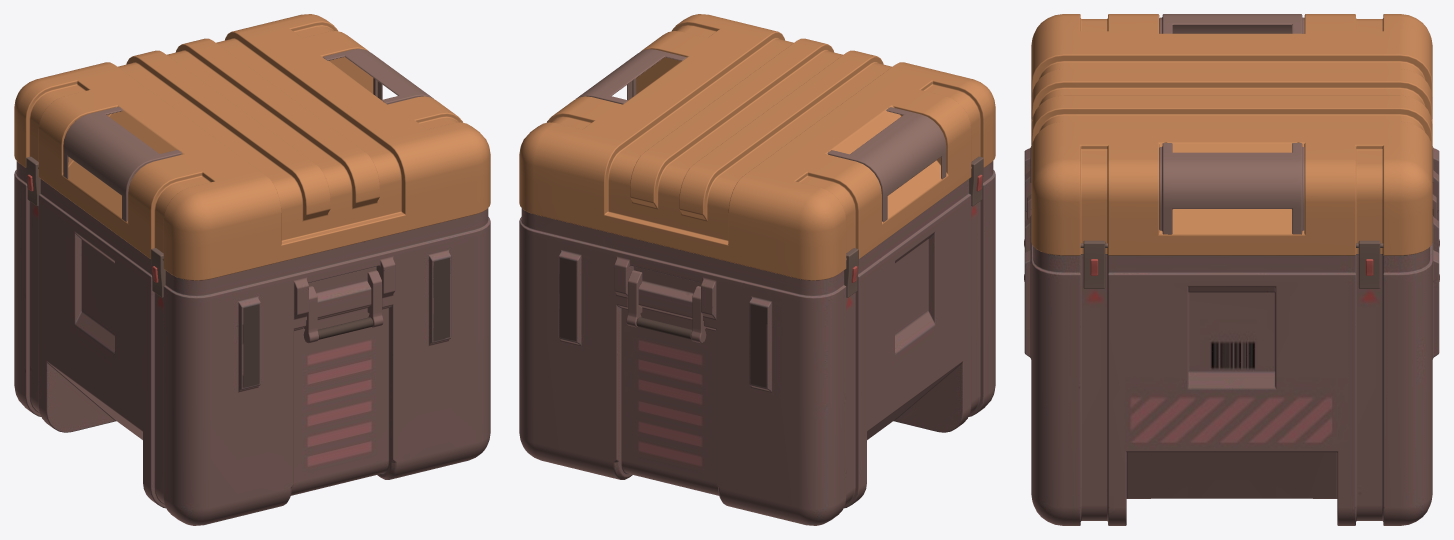
Rendered from Sci-Fi Crate.glb.
The picture shows the model from 3 angles, left to right: view 1: azimuth 30°, elevation 25°; view 2: azimuth 150°, elevation 25°; view 3: azimuth 270°, elevation 25°; orthographic projection. The views are drawn at different scales.
Parts seen in each view (by area): view 1: Cube; view 2: Cube; view 3: Cube.
Boxes of the visible parts, x1=… form: Cube: x1=14, y1=14, x2=490, y2=525; Cube: x1=519, y1=14, x2=995, y2=525; Cube: x1=1024, y1=14, x2=1439, y2=525.
Size of the model in its own units: 1.02 by 1 by 1.04.
Materials: 6 (1 with a texture image).
